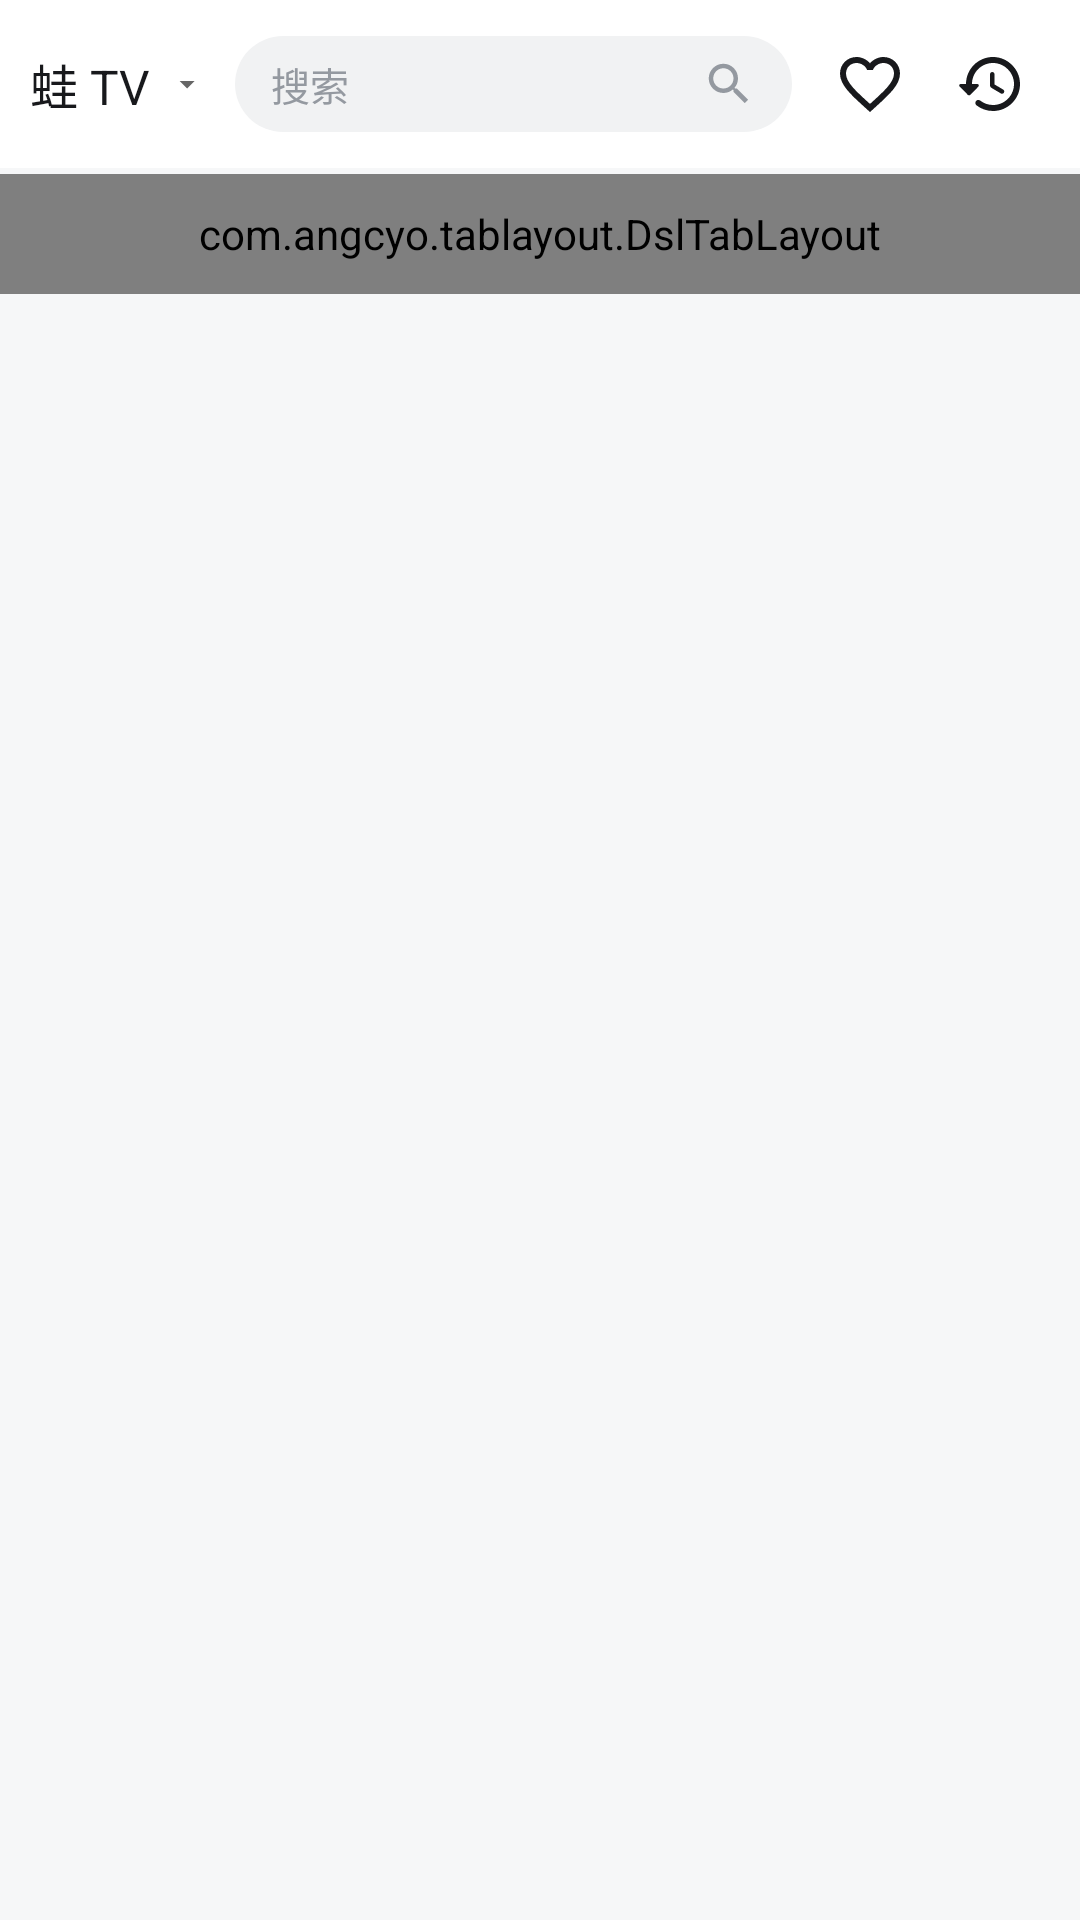

Screen size 1080w x 1920h. Icon name, then its box in pixels as (x1, y1, x2, y2):
collect: (840, 57, 900, 112)
history: (959, 57, 1020, 111)
